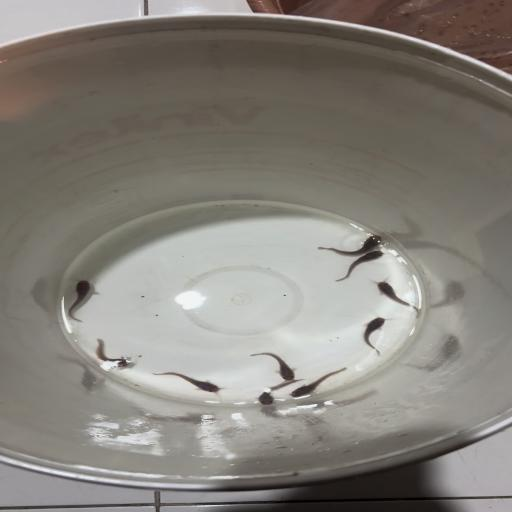lele: (369, 278, 422, 318), (150, 371, 230, 395), (288, 367, 348, 398), (316, 232, 385, 257), (334, 249, 386, 282), (65, 275, 95, 323), (254, 378, 305, 406), (249, 352, 297, 381), (92, 336, 132, 368), (361, 315, 389, 357)
